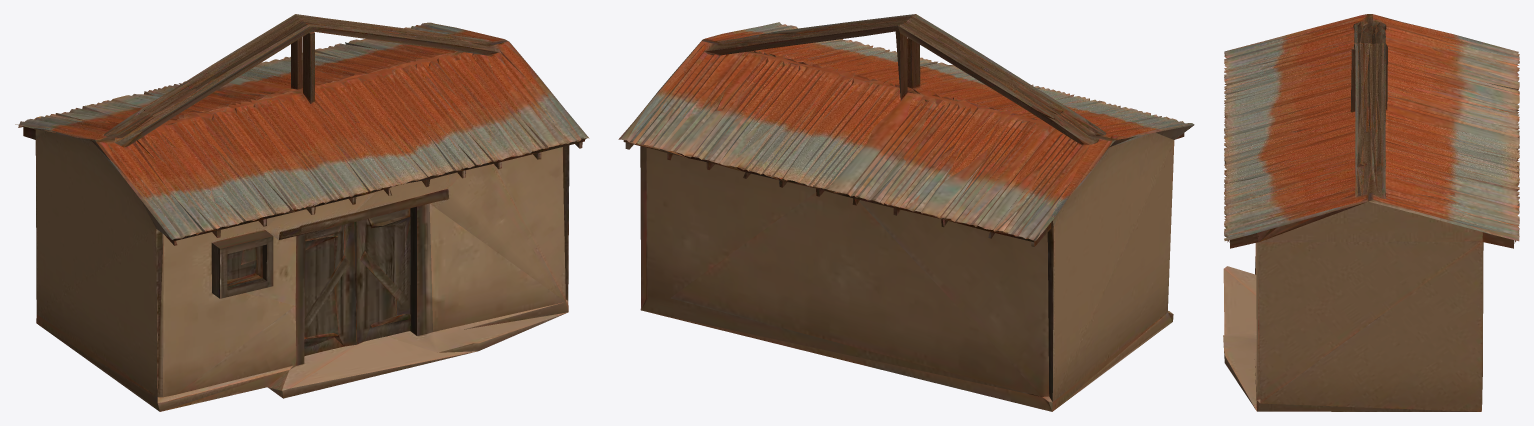
The model's file is Barn_Long_TinRoof.glb.
The picture shows the model from 3 angles, left to right: view 1: azimuth 30°, elevation 25°; view 2: azimuth 150°, elevation 25°; view 3: azimuth 270°, elevation 25°; orthographic projection. The views are drawn at different scales.
Bounding box in the file's own units: 1.9 × 1.29 × 1.26.
Materials: 1 (1 with a texture image).
